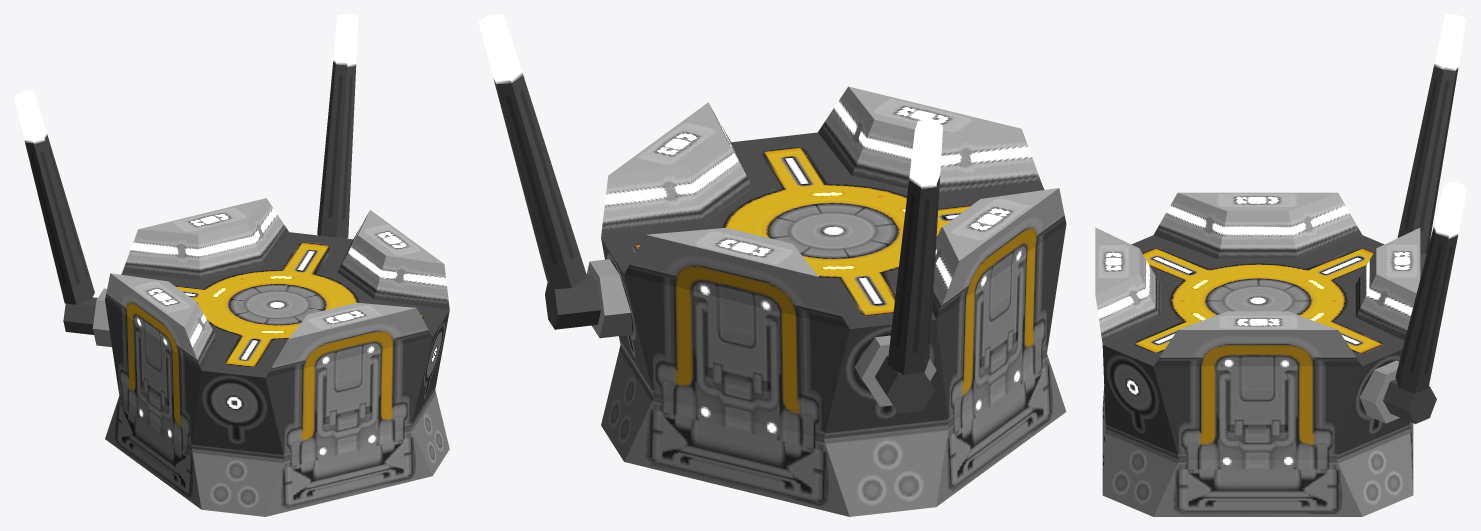
Rendered from drone-depot.glb.
The picture shows the model from 3 angles, left to right: view 1: azimuth 30°, elevation 25°; view 2: azimuth 150°, elevation 25°; view 3: azimuth 270°, elevation 25°; orthographic projection. The views are drawn at different scales.
Visible parts, largest first — view 1: Plane.018; view 2: Plane.018; view 3: Plane.018.
Boxes of the visible parts, x1,y1,x2,y2 form: Plane.018: [14, 14, 449, 516]; Plane.018: [478, 14, 1066, 516]; Plane.018: [1095, 14, 1466, 516].
Bounding box in the file's own units: 8.77 × 7.94 × 7.61.
1 material, 1 textured.
